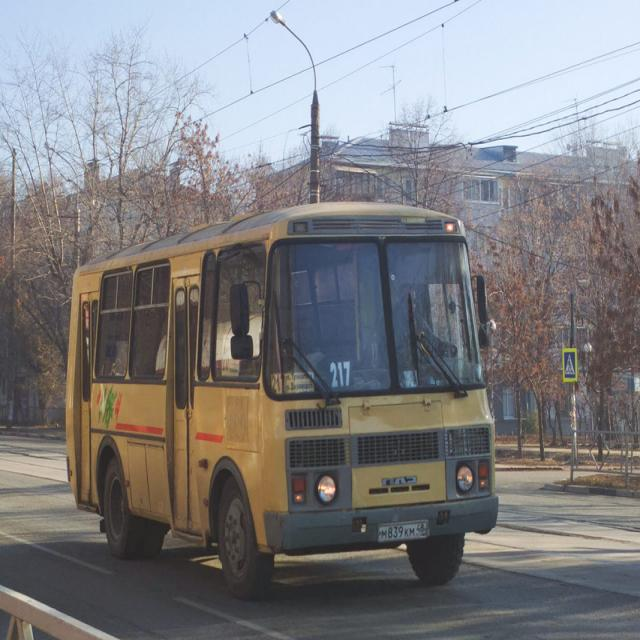number-of-bus: (329, 360, 353, 390)
